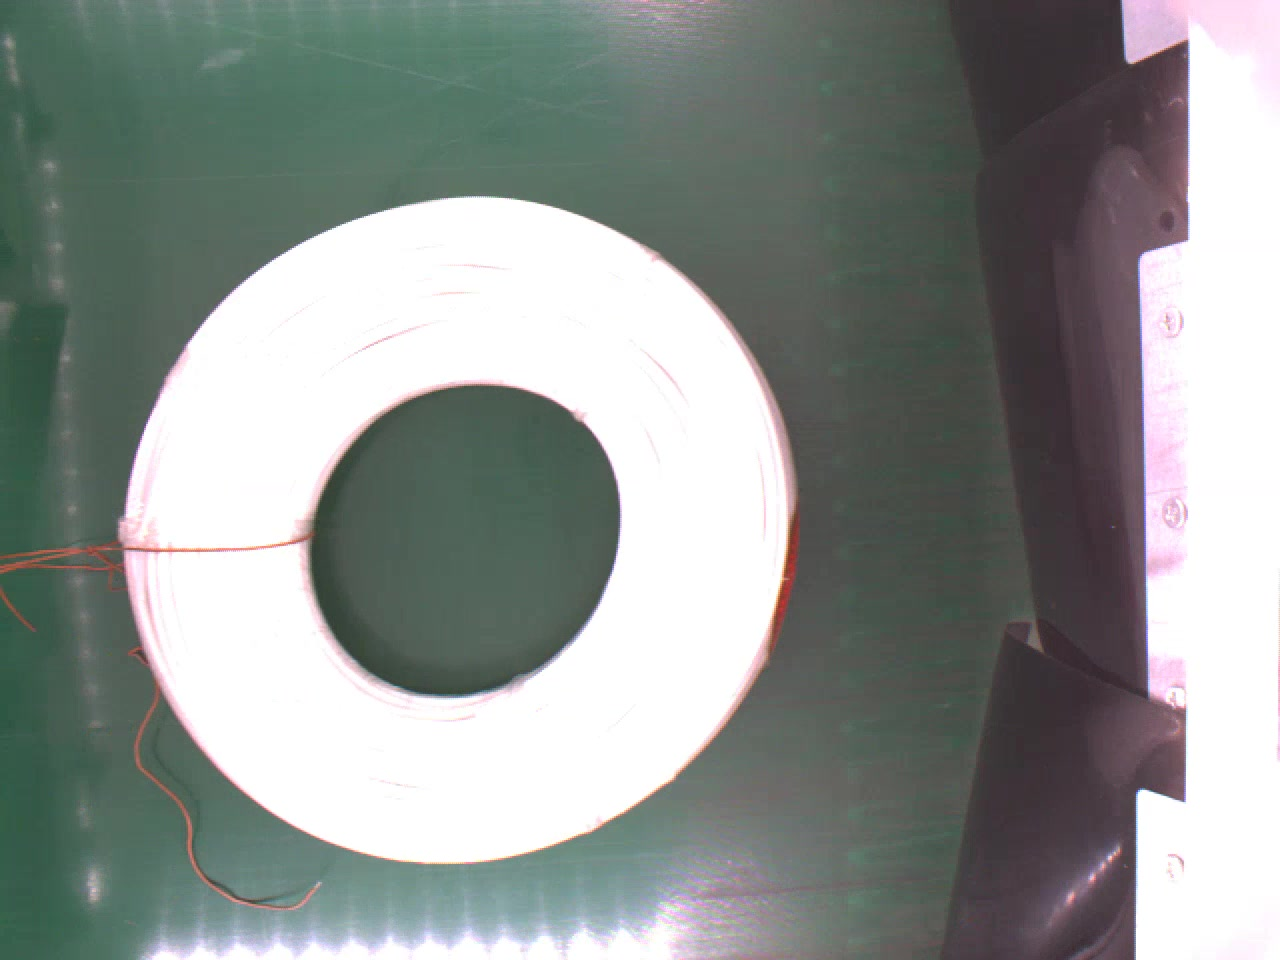white: (120, 191, 798, 862)
